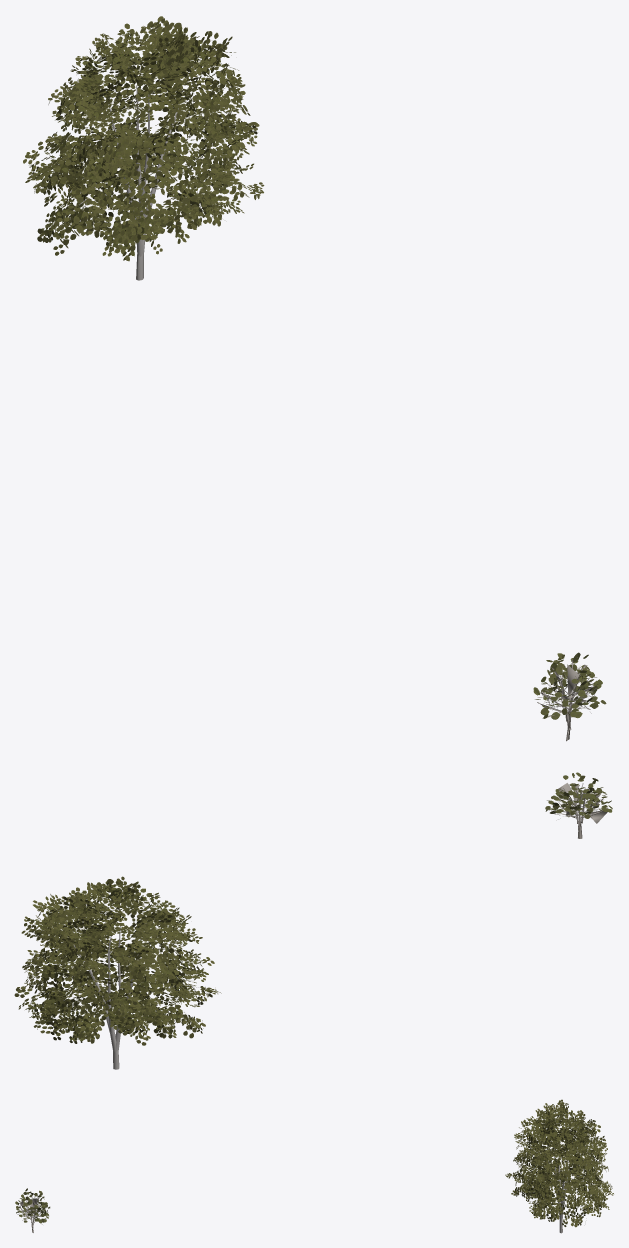
The picture shows the model from 3 angles, top to bottom: view 1: azimuth 30°, elevation 25°; view 2: azimuth 150°, elevation 25°; view 3: azimuth 270°, elevation 25°; orthographic projection. The views are drawn at different scales.
Parts seen in each view (by area): view 1: NT_RedMaple_0100, NT_PinOak_0419; view 2: NT_RedMaple_0100, NT_PinOak_0419; view 3: NT_RedMaple_0100, NT_PinOak_0419.
Part boxes in pixels (x1,y1,x2,y2): NT_RedMaple_0100: (23, 16, 264, 280); NT_PinOak_0419: (533, 652, 606, 741); NT_RedMaple_0100: (14, 876, 221, 1069); NT_PinOak_0419: (545, 772, 612, 838); NT_RedMaple_0100: (505, 1099, 613, 1233); NT_PinOak_0419: (15, 1188, 50, 1232).
Size of the model in its own units: 23.4 by 25.97 by 94.41.
4 materials, 2 textured.
